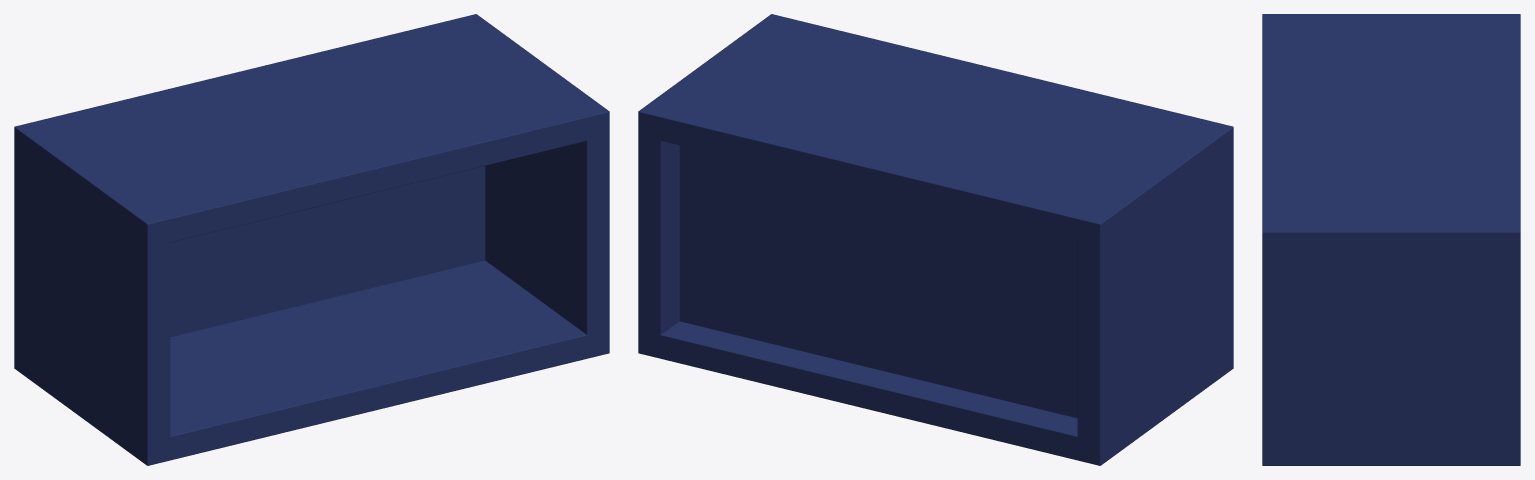
The model's file is MODH_1X05_A_B_AF.glb.
3 renders of one model, left to right at view 1: azimuth 30°, elevation 25°; view 2: azimuth 150°, elevation 25°; view 3: azimuth 270°, elevation 25°, orthographic. The views are drawn at different scales.
Size of the model in its own units: 360 by 180 by 180.
